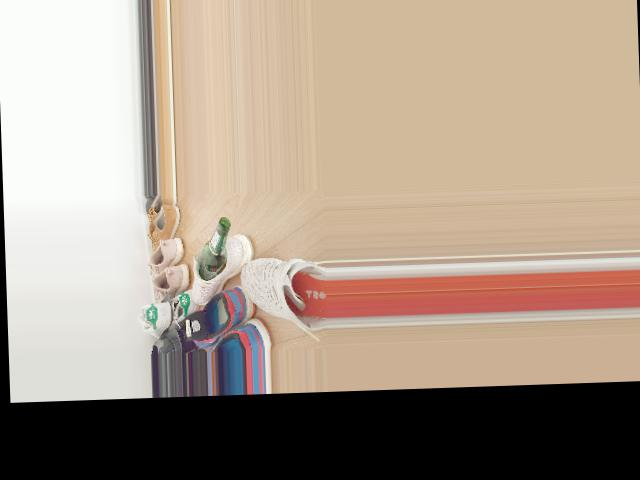beer: (196, 216, 232, 280)
